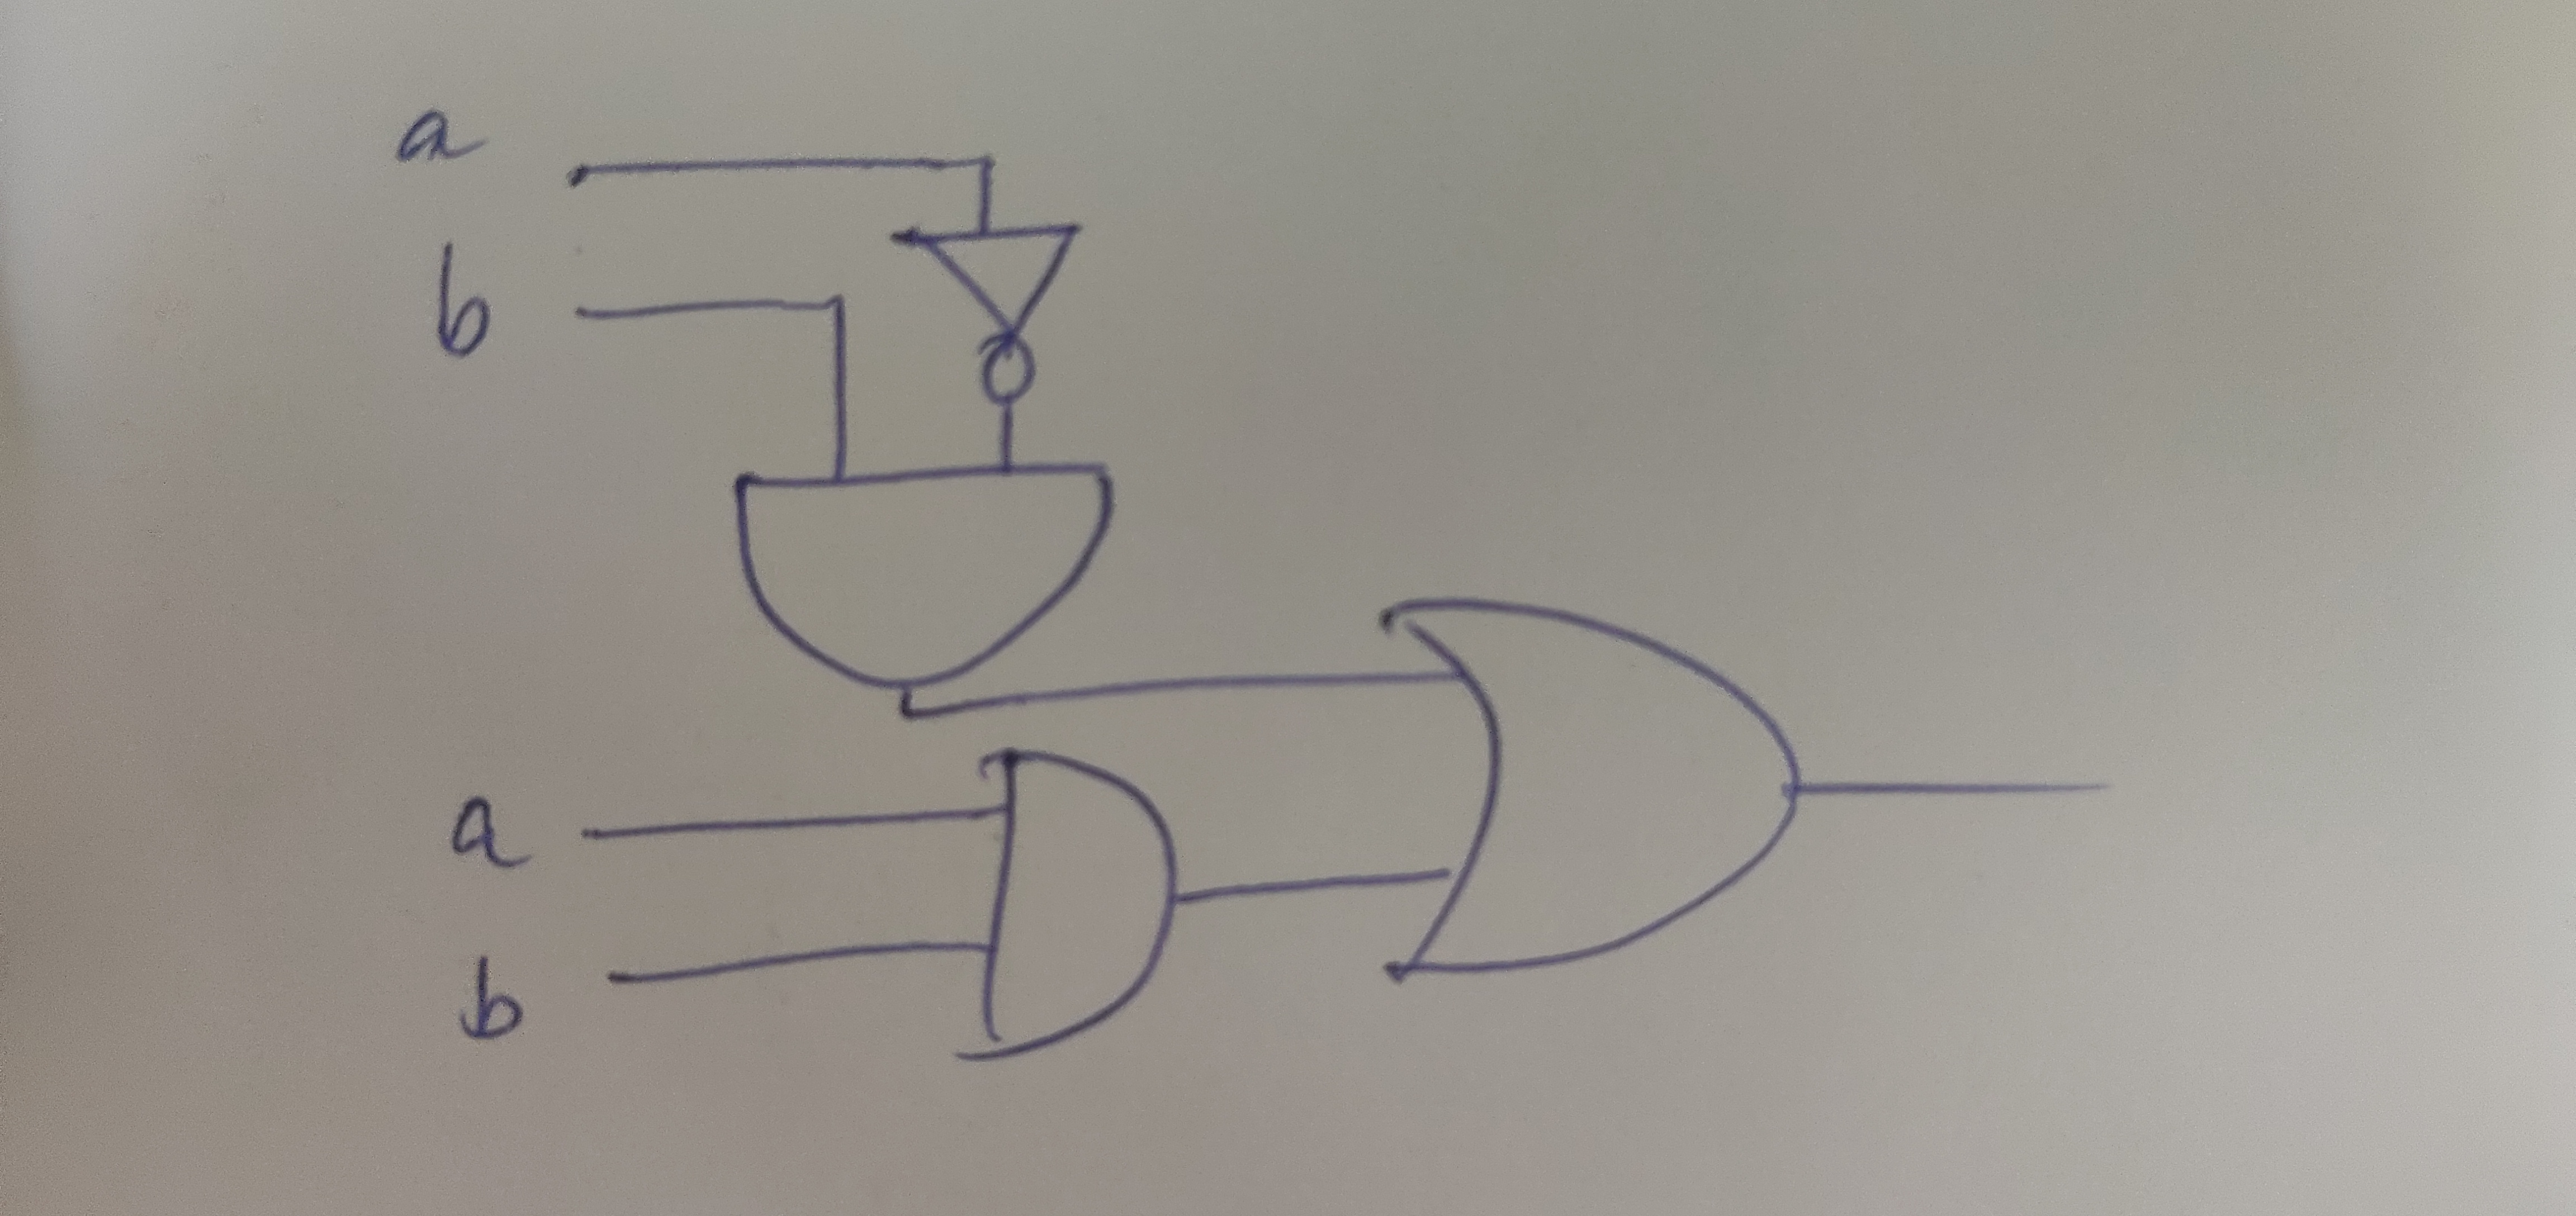and: (723, 454, 1114, 690), (950, 736, 1199, 1104)
not: (881, 187, 1124, 427)
or: (1341, 572, 1833, 1009)
